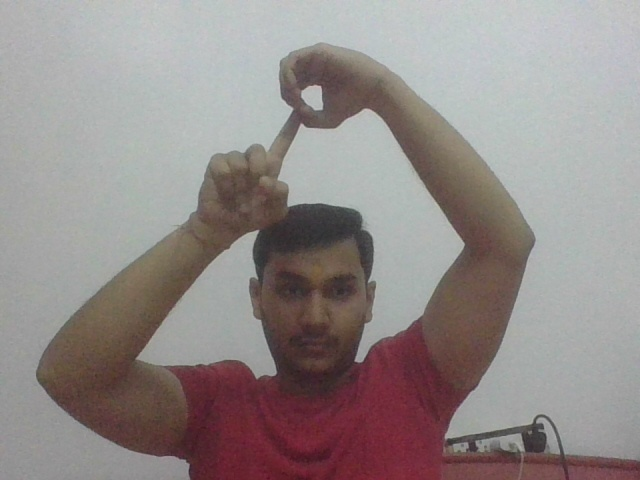Q: (225, 41, 370, 202)
